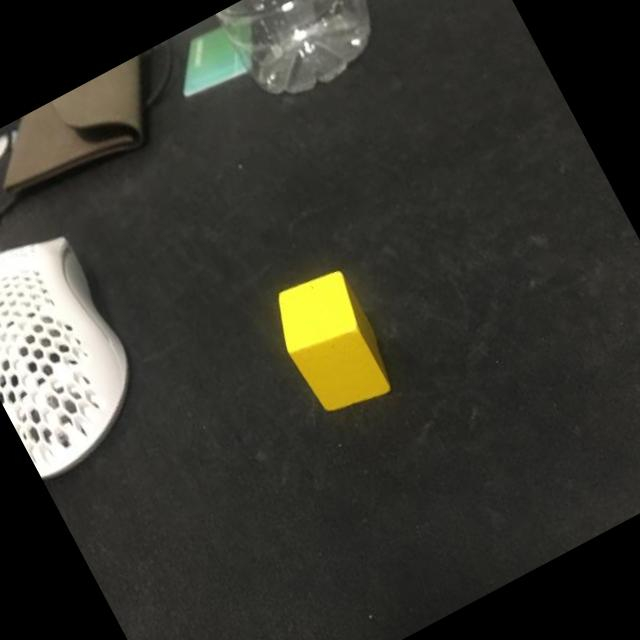yellow: (260, 260, 403, 426)
